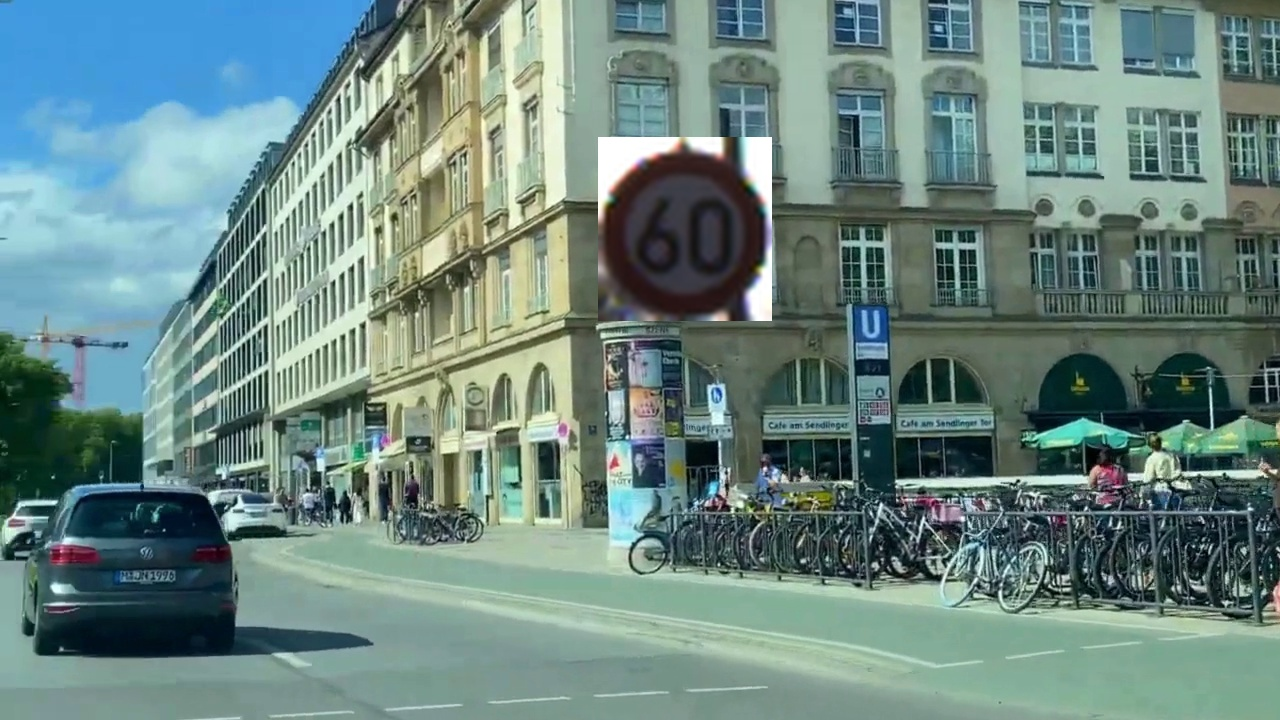Speed 60: (598, 137, 772, 321)
